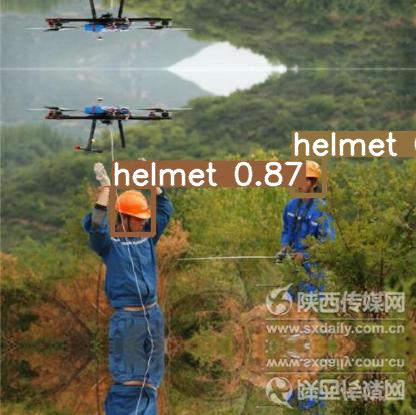helmet: (112, 186, 153, 234), (292, 156, 324, 195)
